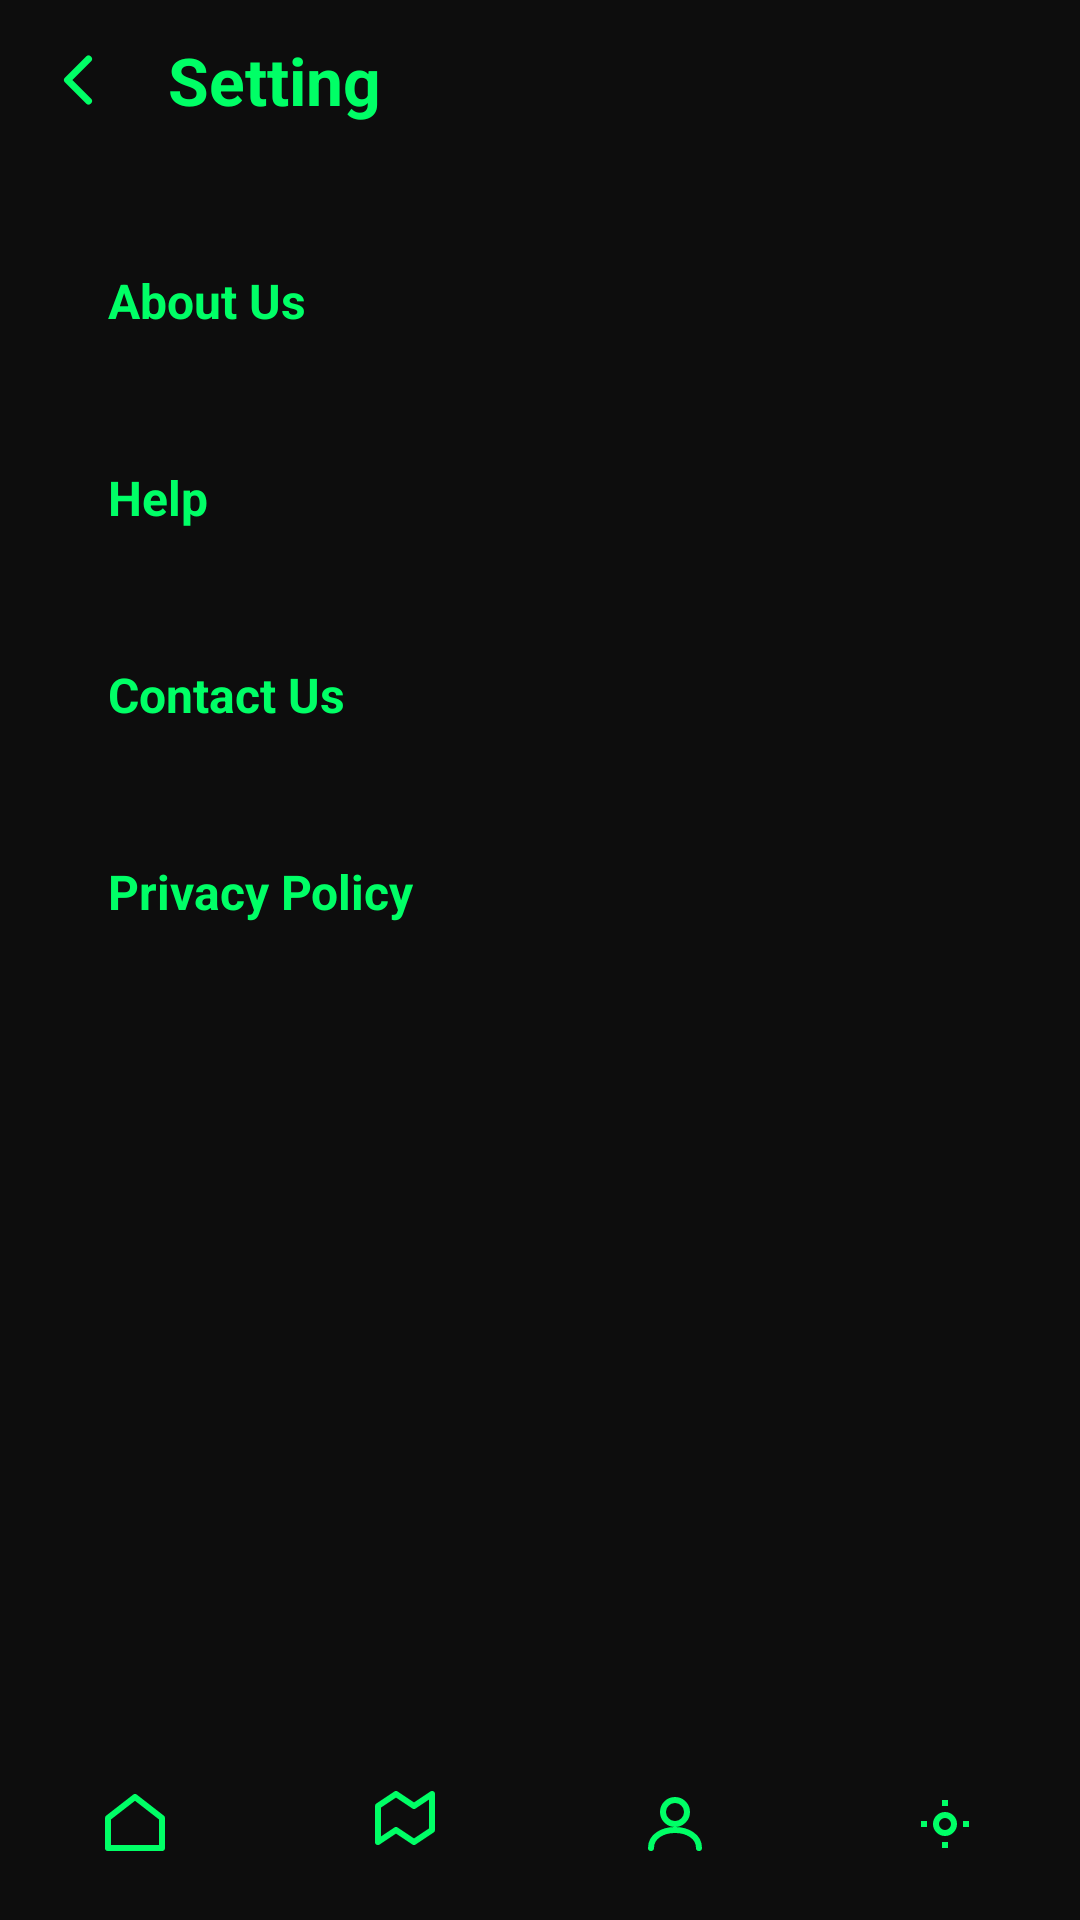

Where icons sit on this 1080 × 1920 app screen, as (x1, y1, x2, y2):
Back: (64, 55, 92, 105)
home: (105, 1794, 165, 1851)
map: (375, 1791, 435, 1845)
